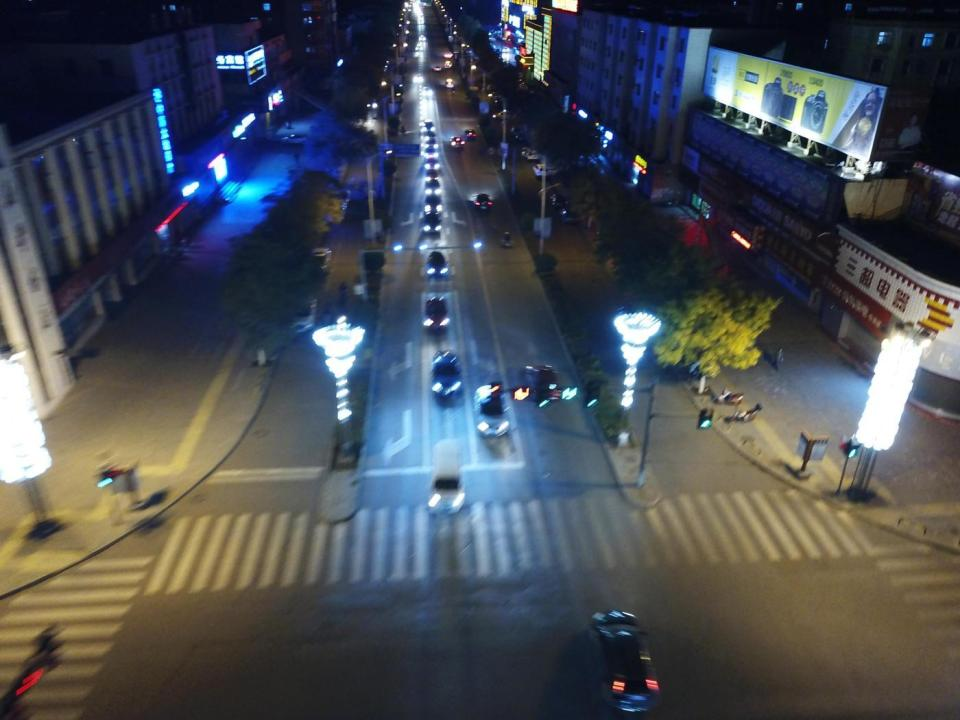car: (591, 610, 659, 712), (475, 386, 510, 436), (431, 351, 462, 404), (524, 363, 557, 404), (288, 288, 315, 332), (319, 189, 350, 224), (423, 295, 450, 329), (424, 250, 449, 279), (307, 246, 331, 274), (423, 212, 440, 234), (473, 192, 492, 210), (426, 192, 442, 211), (281, 134, 310, 144), (552, 195, 570, 208), (424, 157, 440, 171), (492, 109, 514, 119), (534, 164, 550, 177), (450, 134, 463, 149), (426, 179, 439, 192), (421, 120, 434, 133), (464, 127, 476, 140), (424, 147, 438, 158), (423, 137, 437, 148), (366, 97, 379, 108), (424, 169, 438, 179), (423, 130, 436, 140), (522, 147, 536, 156), (527, 150, 539, 159), (512, 126, 525, 134), (445, 77, 454, 88), (486, 84, 499, 91), (488, 90, 501, 97), (515, 131, 525, 140), (379, 62, 388, 72), (558, 106, 568, 115), (422, 87, 433, 95), (414, 74, 423, 82), (422, 98, 434, 104), (377, 78, 386, 86), (494, 95, 504, 102), (444, 61, 452, 68), (444, 52, 452, 58), (418, 34, 426, 40), (415, 44, 422, 50), (502, 52, 509, 58), (466, 47, 472, 54), (461, 41, 468, 47), (502, 47, 510, 52), (513, 72, 521, 77), (472, 57, 480, 62), (489, 44, 496, 49), (501, 57, 508, 62), (434, 66, 442, 70), (516, 80, 524, 84), (518, 84, 526, 88), (492, 48, 498, 53), (488, 30, 494, 34), (470, 54, 476, 58), (457, 36, 462, 40), (418, 20, 424, 23), (420, 5, 426, 8), (486, 36, 490, 40)
van: (432, 439, 464, 514)
